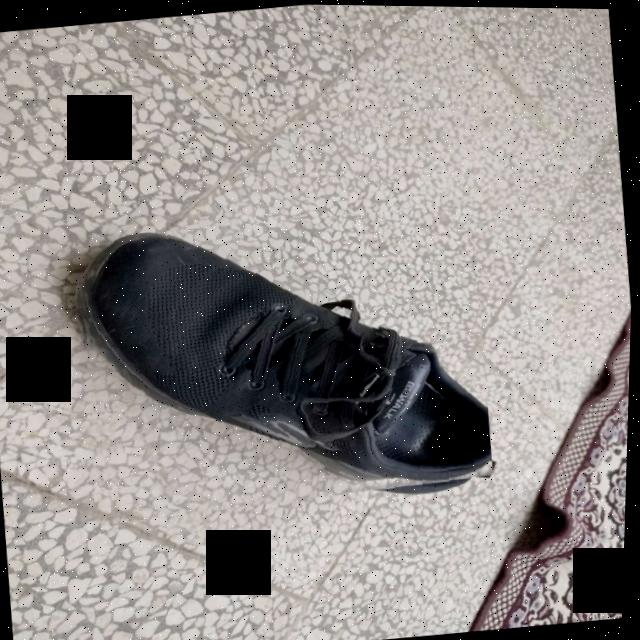shoe: (67, 197, 503, 529)
